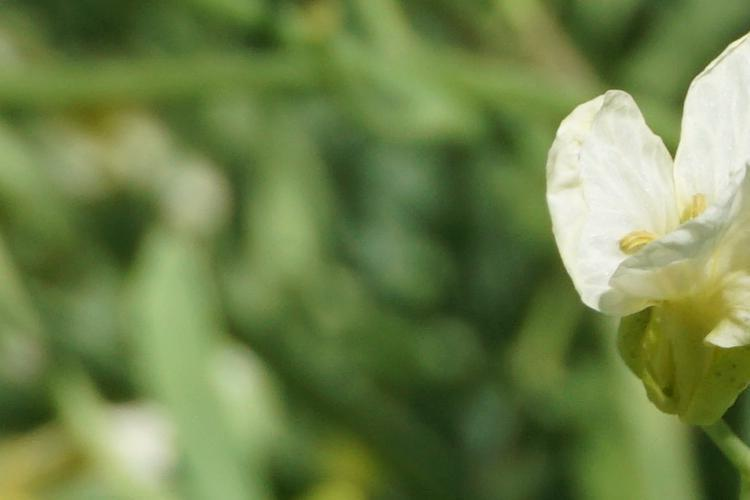white: (562, 50, 750, 406)
